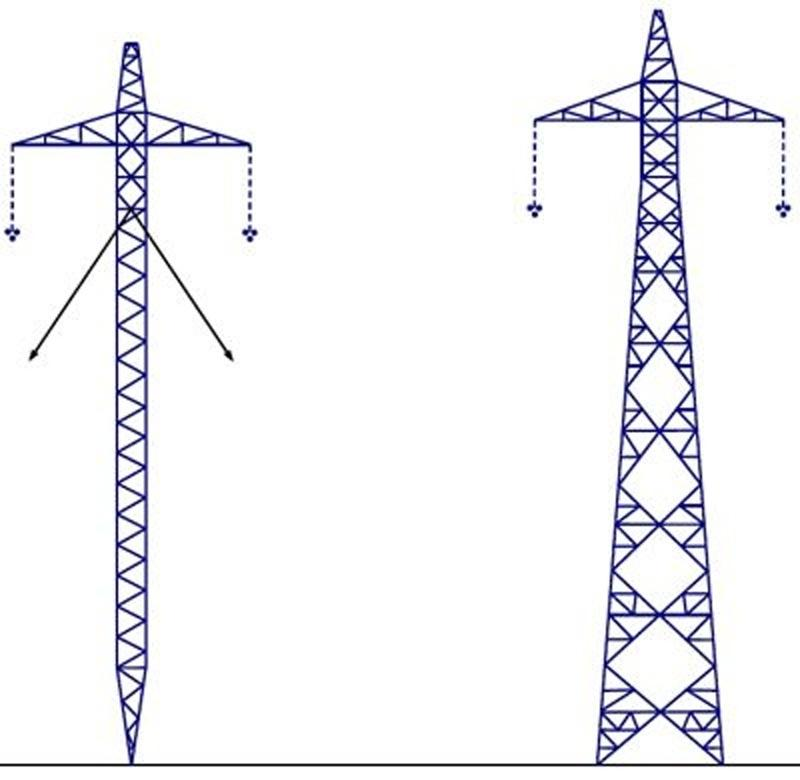power_tower: (37, 85, 262, 749), (563, 37, 763, 749)
